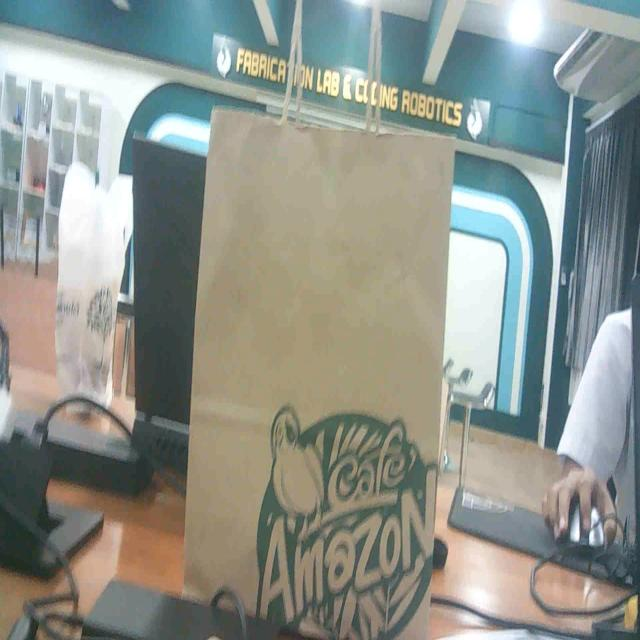bag: (176, 70, 462, 635)
